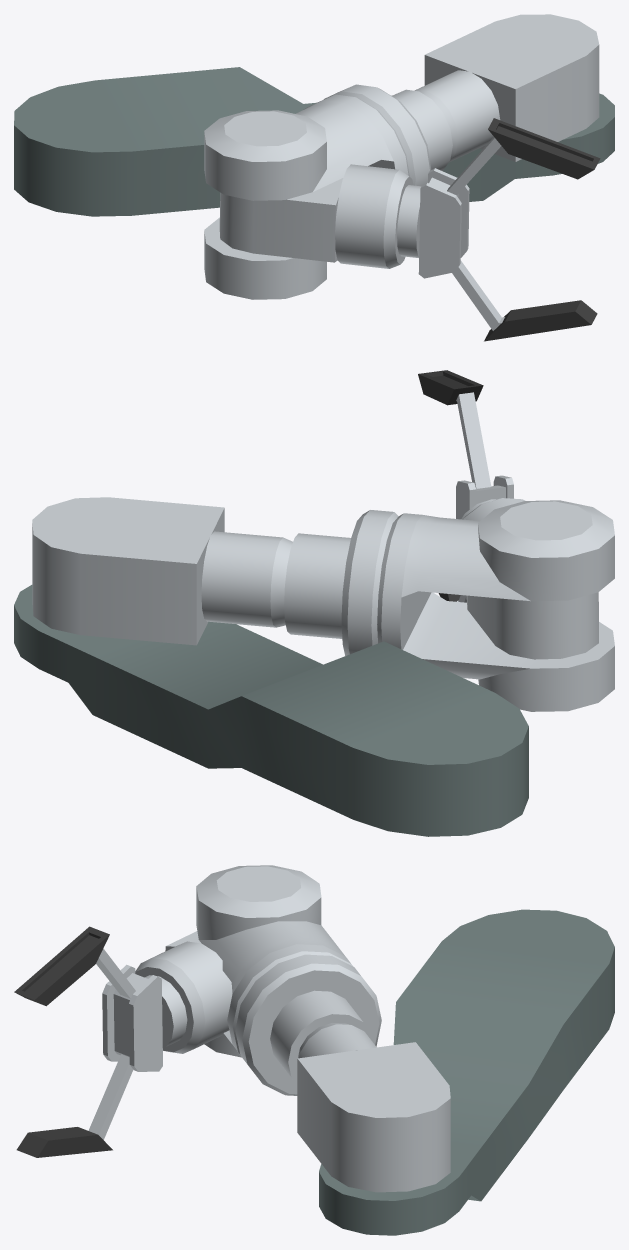
File: RobotArm.fbx
3 renders of one model, top to bottom at view 1: azimuth 30°, elevation 25°; view 2: azimuth 150°, elevation 25°; view 3: azimuth 270°, elevation 25°, orthographic. The views are drawn at different scales.
Visible parts, largest first — view 1: RobotArm; view 2: RobotArm; view 3: RobotArm.
Boxes of the visible parts, bbox=[...] form: RobotArm: bbox=[14, 14, 614, 341]; RobotArm: bbox=[14, 370, 614, 836]; RobotArm: bbox=[14, 865, 614, 1235].
Bounding box in the file's own units: 89.25 × 35.44 × 88.93.
